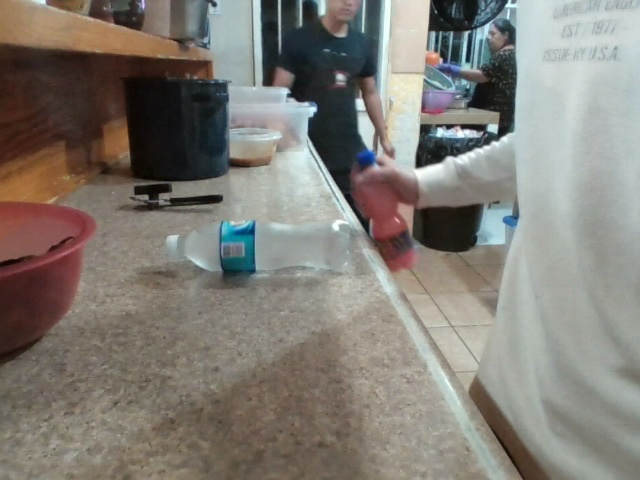botella: (132, 195, 356, 293), (349, 154, 443, 283)
